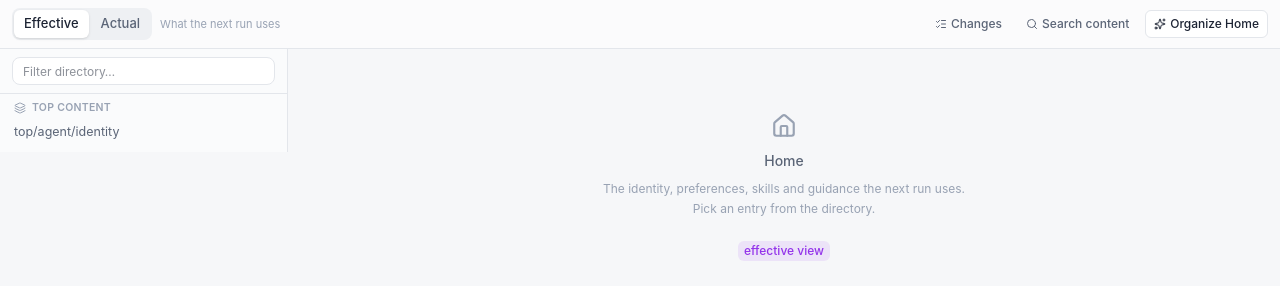
Scenario: HomePage changes › explains a diverged baseline without offering merge controls
Click the button "Changes". click: (968, 24)
box: top-left (927, 10), bottom-right (1010, 38)
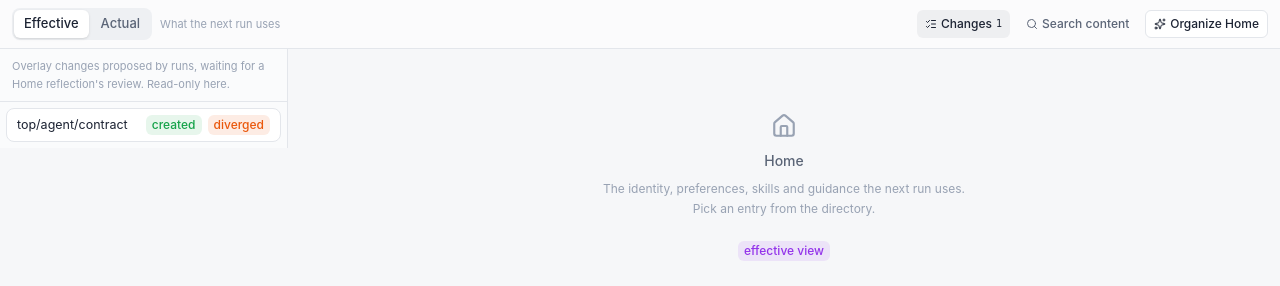
Click the button titled "home:top/agent/contract". click: (144, 125)
box: top-left (6, 108), bottom-right (281, 142)
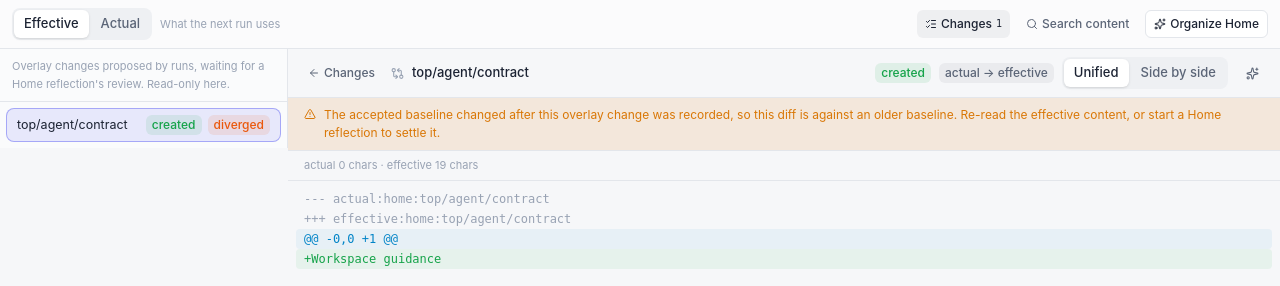
Expected: the text "Accept" is not shown
Expected: the text "accepted baseline changed" is shown, top-left (324, 107), bottom-right (1221, 140)
